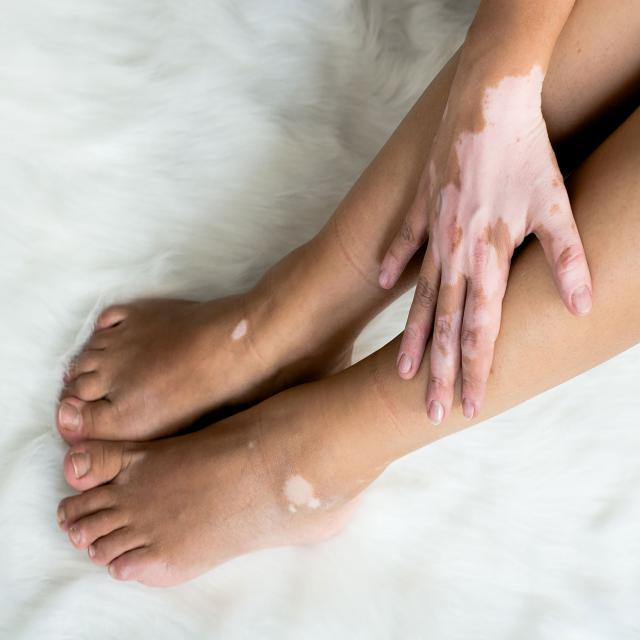vitiligo: (412, 63, 606, 413)
